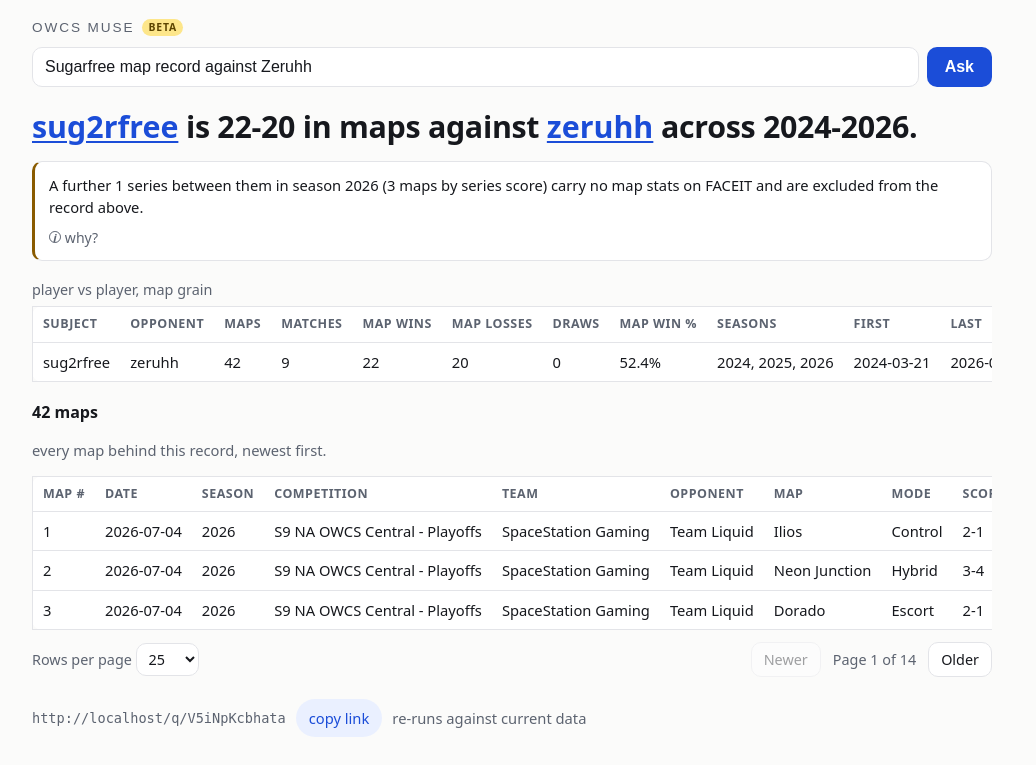
asking › pages the evidence through the API, keeping the answer on screen
Expected: the element with test id "evidence" is shown, [32, 400, 992, 677]
Step 1. Click the button "Older" → (960, 659), box [928, 642, 992, 677]
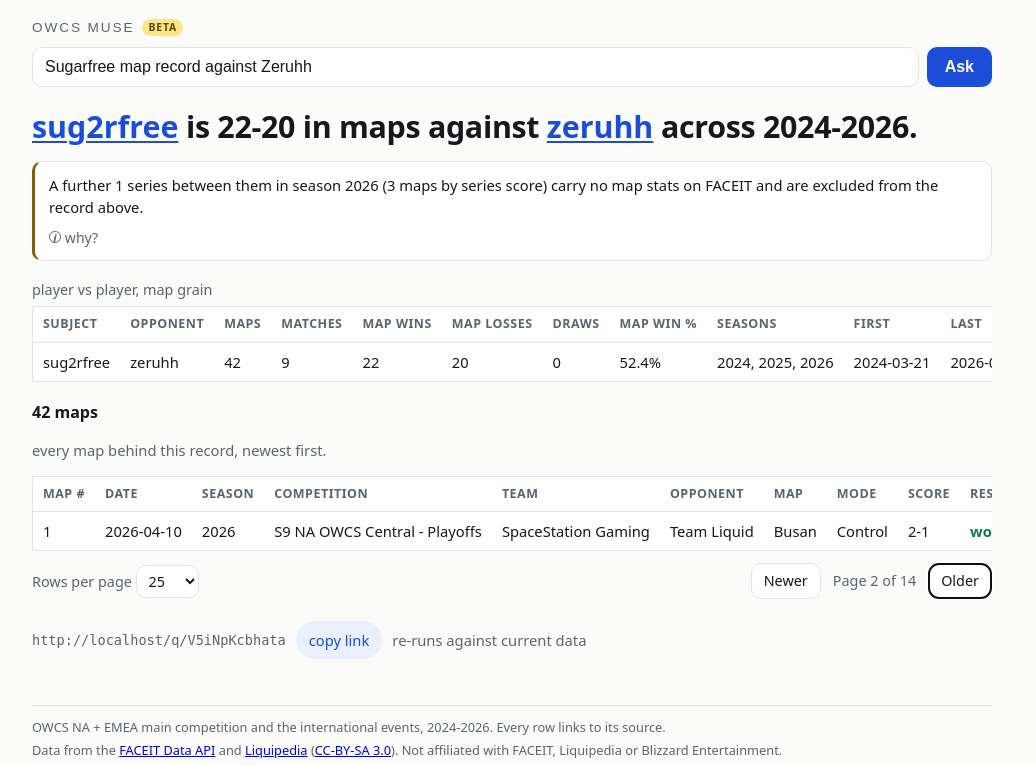
Expected: the element with test id "answer-sentence" is shown, [32, 107, 992, 147]
Expected: the text with test id "pager-state" reads "Page 2 of 14", [833, 570, 916, 592]
Expected: the element with test id "evidence" shows "Busan", [774, 521, 817, 541]
